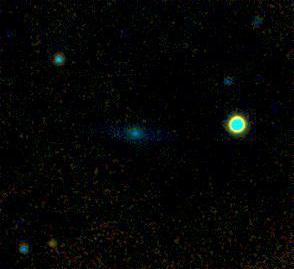star: (38, 230, 68, 260)
